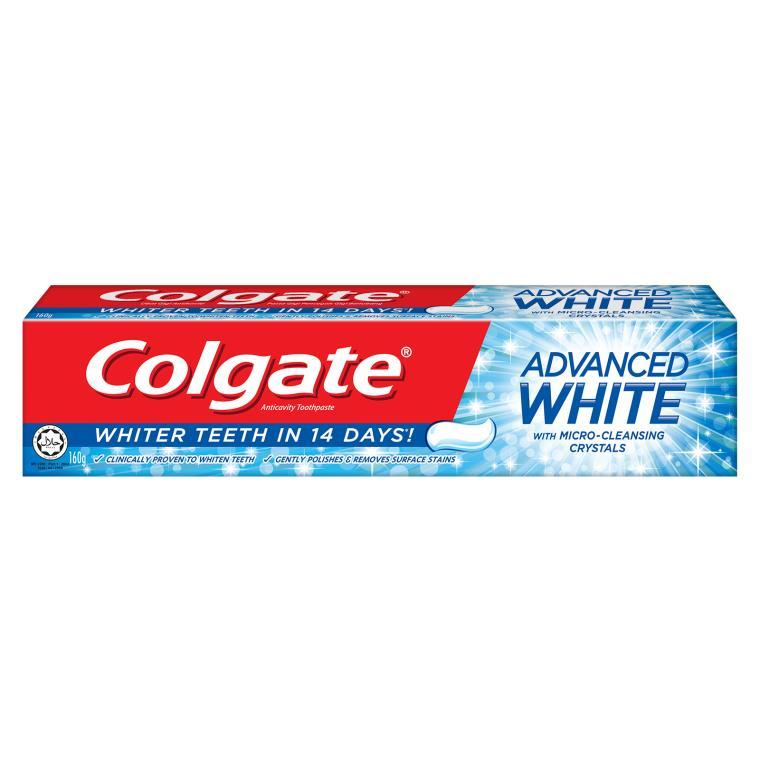toothpaste: (20, 276, 741, 489)
